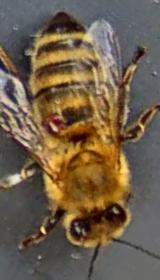varroa_mite: (33, 108, 71, 136)
